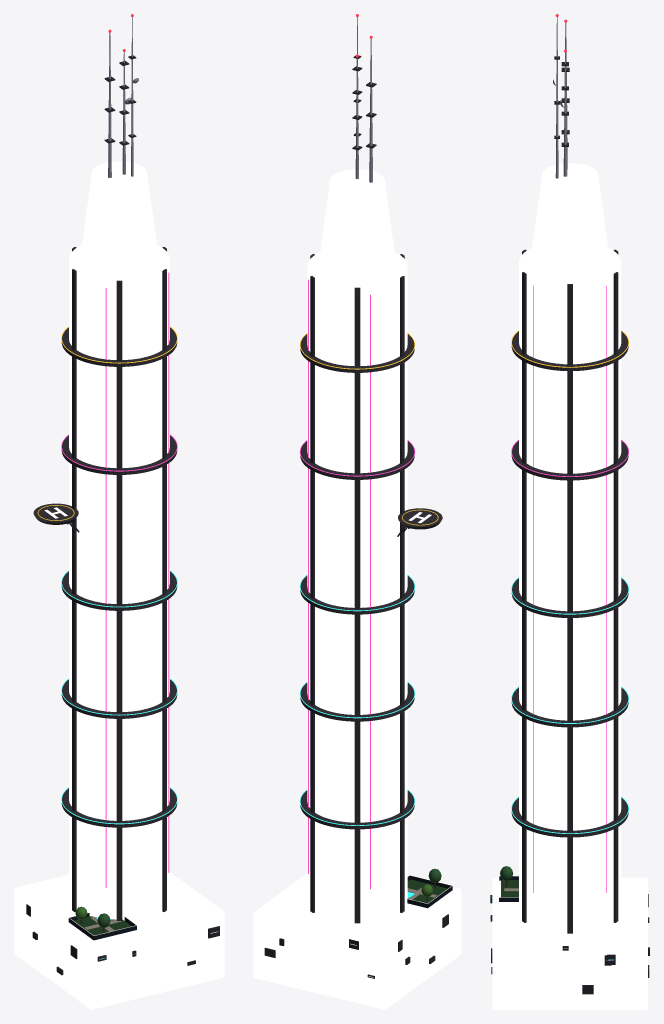
File: rotunda.glb
The picture shows the model from 3 angles, left to right: view 1: azimuth 30°, elevation 25°; view 2: azimuth 150°, elevation 25°; view 3: azimuth 270°, elevation 25°; orthographic projection. The views are drawn at different scales.
Visible parts, largest first — view 1: facade_glass, facade_ribbon, concrete_dark, neon_magenta, metal_light, metal_dark, neon_cyan; view 2: facade_glass, facade_ribbon, concrete_dark, neon_magenta, metal_light, metal_dark, neon_cyan; view 3: facade_glass, facade_ribbon, concrete_dark, neon_magenta, metal_light, neon_cyan, metal_dark.
Part boxes in pixels (bbox=[...]): facade_glass: bbox=[69, 245, 169, 920]; facade_ribbon: bbox=[14, 161, 224, 1009]; concrete_dark: bbox=[33, 247, 177, 975]; neon_magenta: bbox=[61, 272, 177, 954]; metal_light: bbox=[108, 17, 138, 177]; metal_dark: bbox=[26, 55, 219, 965]; neon_cyan: bbox=[61, 570, 177, 959]; facade_glass: bbox=[307, 252, 407, 921]; facade_ribbon: bbox=[253, 169, 461, 1009]; concrete_dark: bbox=[264, 254, 442, 978]; neon_magenta: bbox=[299, 279, 415, 889]; metal_light: bbox=[355, 17, 372, 182]; metal_dark: bbox=[279, 55, 448, 964]; neon_cyan: bbox=[299, 575, 415, 825]; facade_glass: bbox=[519, 247, 621, 931]; facade_ribbon: bbox=[492, 163, 647, 1009]; concrete_dark: bbox=[490, 249, 649, 977]; neon_magenta: bbox=[490, 285, 628, 960]; metal_light: bbox=[553, 17, 567, 178]; neon_cyan: bbox=[490, 577, 628, 960]; metal_dark: bbox=[490, 56, 649, 994].
Bounding box in the file's own units: 38.42 × 233 × 34.86.
